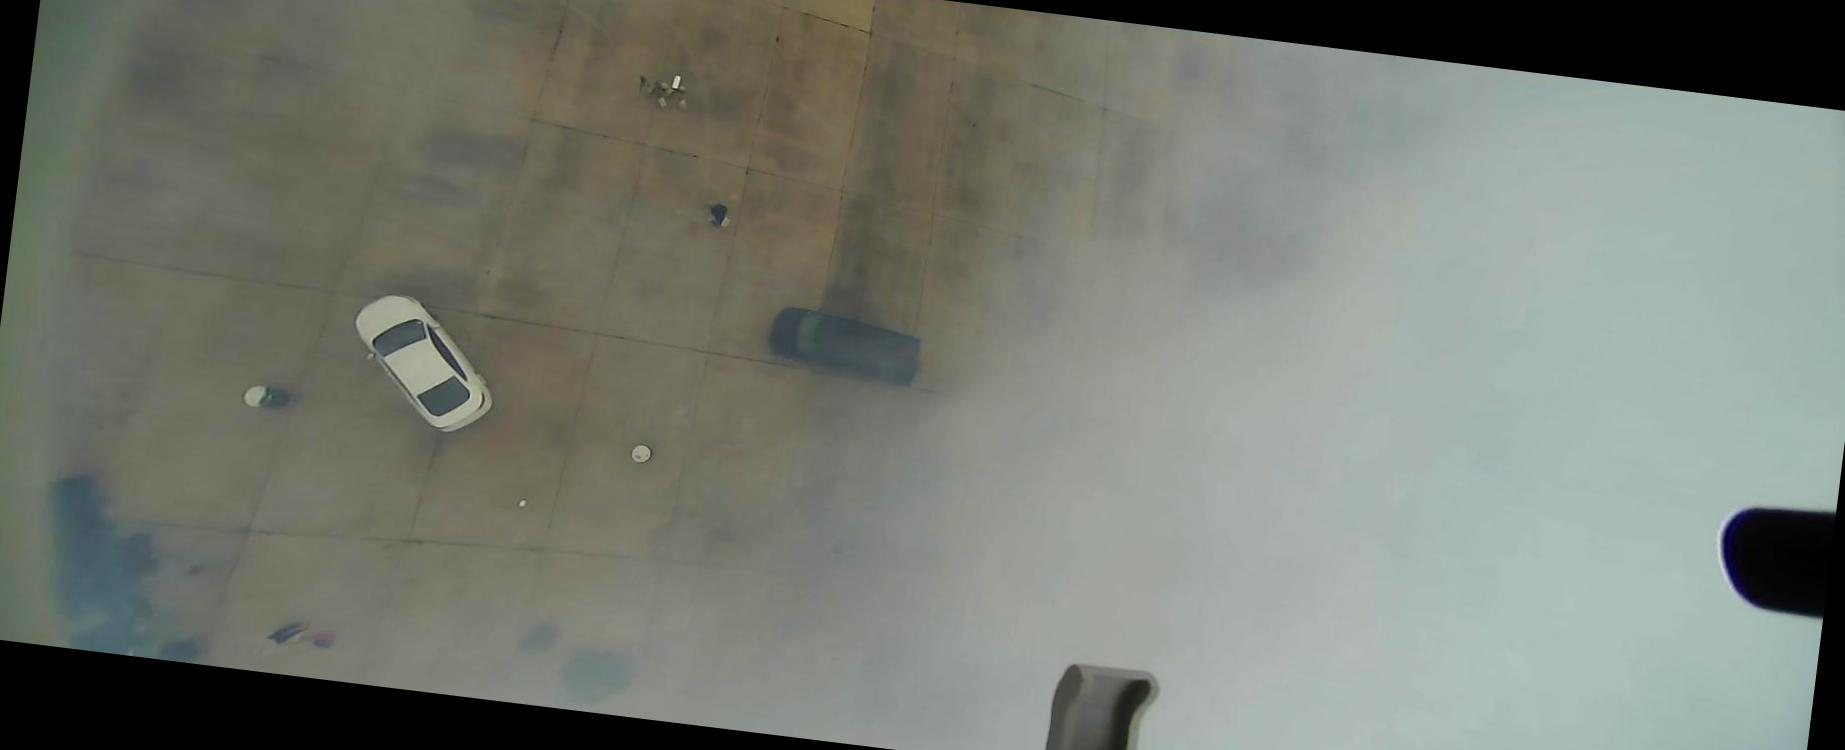vehicle: (340, 287, 504, 438), (32, 472, 162, 656), (772, 305, 924, 386)
